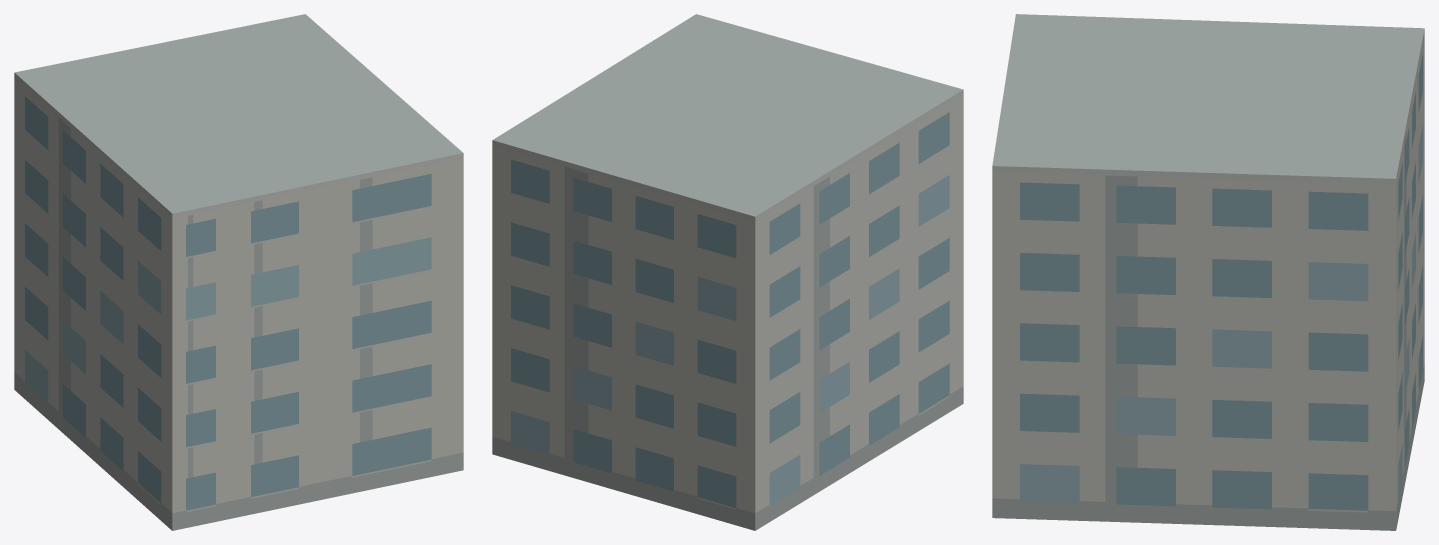
The model's file is survey-upis-32888695.glb.
The picture shows the model from 3 angles, left to right: view 1: azimuth 30°, elevation 25°; view 2: azimuth 150°, elevation 25°; view 3: azimuth 270°, elevation 25°; orthographic projection. The views are drawn at different scales.
Parts seen in each view (by area): view 1: survey-upis-32888695.tmp; view 2: survey-upis-32888695.tmp; view 3: survey-upis-32888695.tmp.
Part boxes in pixels (left/top/right/bottom): survey-upis-32888695.tmp: left=14, top=14, right=463, bottom=530; survey-upis-32888695.tmp: left=492, top=14, right=963, bottom=530; survey-upis-32888695.tmp: left=992, top=14, right=1424, bottom=530.
Bounding box in the file's own units: 14.57 × 14.5 × 16.15.
